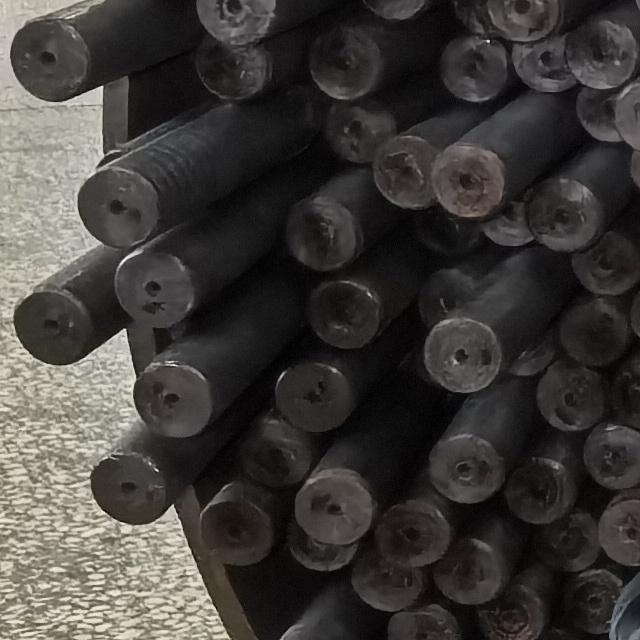tool: (78, 154, 170, 247), (269, 347, 360, 429), (290, 467, 376, 545), (13, 16, 91, 98), (114, 251, 198, 327), (526, 176, 604, 256), (421, 315, 504, 390), (132, 360, 212, 435), (92, 453, 172, 527), (284, 195, 360, 272), (16, 288, 94, 361), (431, 142, 505, 218), (567, 13, 640, 89), (370, 498, 450, 567), (428, 434, 506, 504), (194, 32, 272, 102), (569, 215, 638, 294), (533, 361, 607, 434), (309, 279, 382, 351), (432, 536, 506, 606), (198, 500, 274, 568), (309, 24, 381, 95), (436, 34, 509, 104), (372, 136, 439, 210), (324, 94, 396, 162), (239, 420, 312, 486), (350, 547, 422, 613), (419, 267, 486, 336), (559, 300, 627, 367), (505, 454, 572, 522), (532, 508, 598, 571), (583, 420, 640, 487), (563, 566, 621, 631), (195, 0, 279, 43), (478, 586, 546, 637), (415, 200, 479, 253), (515, 36, 571, 94), (599, 491, 640, 568), (578, 88, 628, 148), (486, 0, 562, 38), (609, 350, 640, 433), (292, 532, 358, 570), (479, 200, 532, 246), (388, 610, 463, 640), (501, 332, 551, 375), (614, 78, 640, 149), (348, 0, 447, 18)
